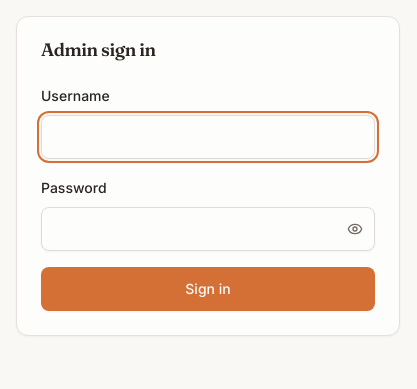
Test case: AdminLogin — every failure mode says something actionable › F15: clears a stale error while a retry is in flight
The image size is (417, 389).
Type "admin" into the field labelled "Username" at (208,137), box [41,115,375,159]
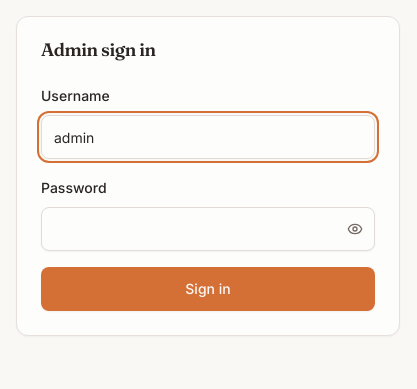
Type "wrong" into the password field labelled "Password" at (208,229), box [41,207,375,251]
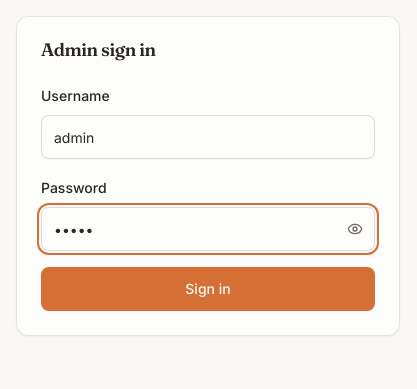
Click the button "Sign in" at (208,289), box [41,267,375,311]
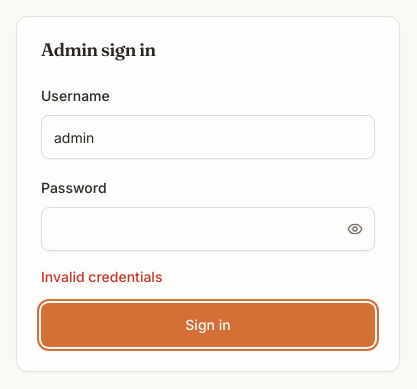
Now the message "Invalid credentials" is shown, box [41,268,162,285]
Type "s3cret" into the password field labelled "Password" at (208,229), box [41,207,375,251]
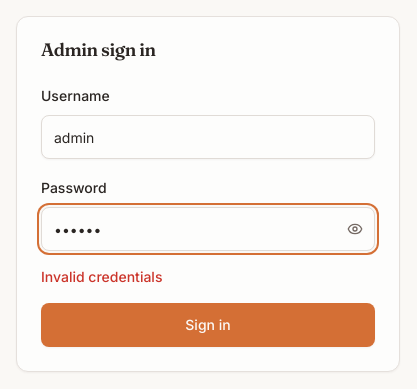
Click the button "Sign in" at (208,325), box [41,303,375,347]
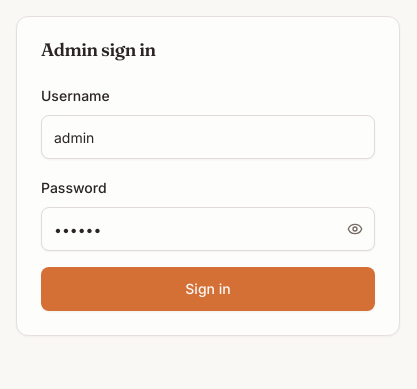
Now the message "Invalid credentials" is gone
